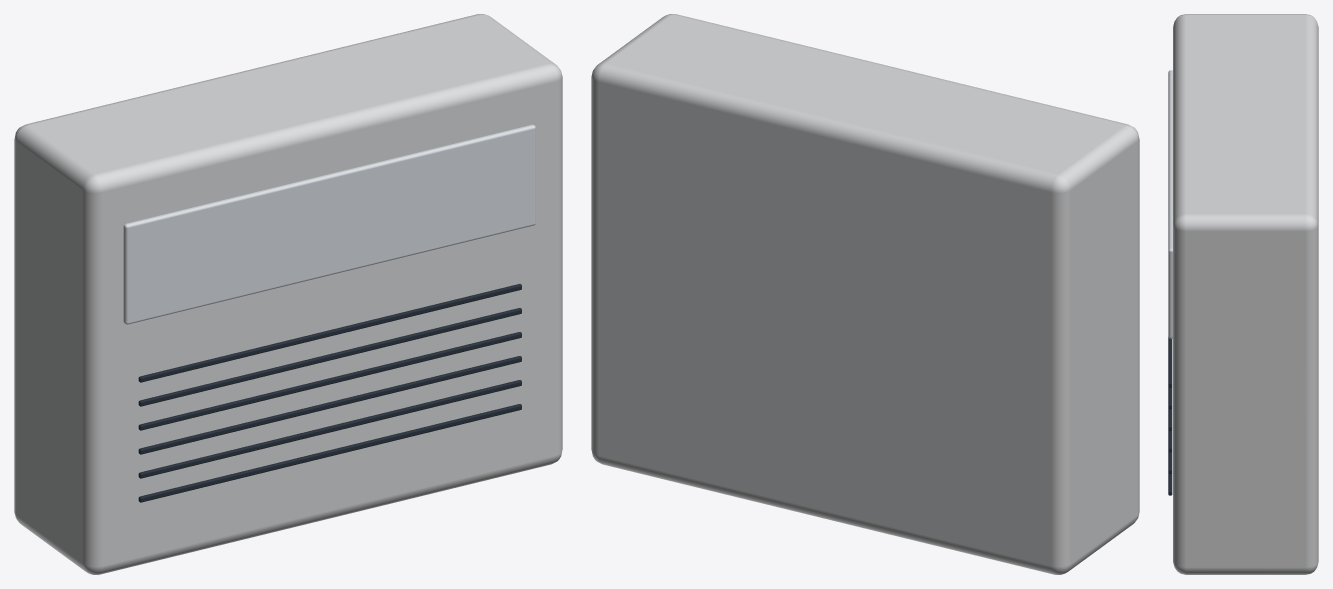
The model's file is floor.glb.
The picture shows the model from 3 angles, left to right: view 1: azimuth 30°, elevation 25°; view 2: azimuth 150°, elevation 25°; view 3: azimuth 270°, elevation 25°; orthographic projection. The views are drawn at different scales.
Size of the model in its own units: 0.75 by 0.6 by 0.227.
